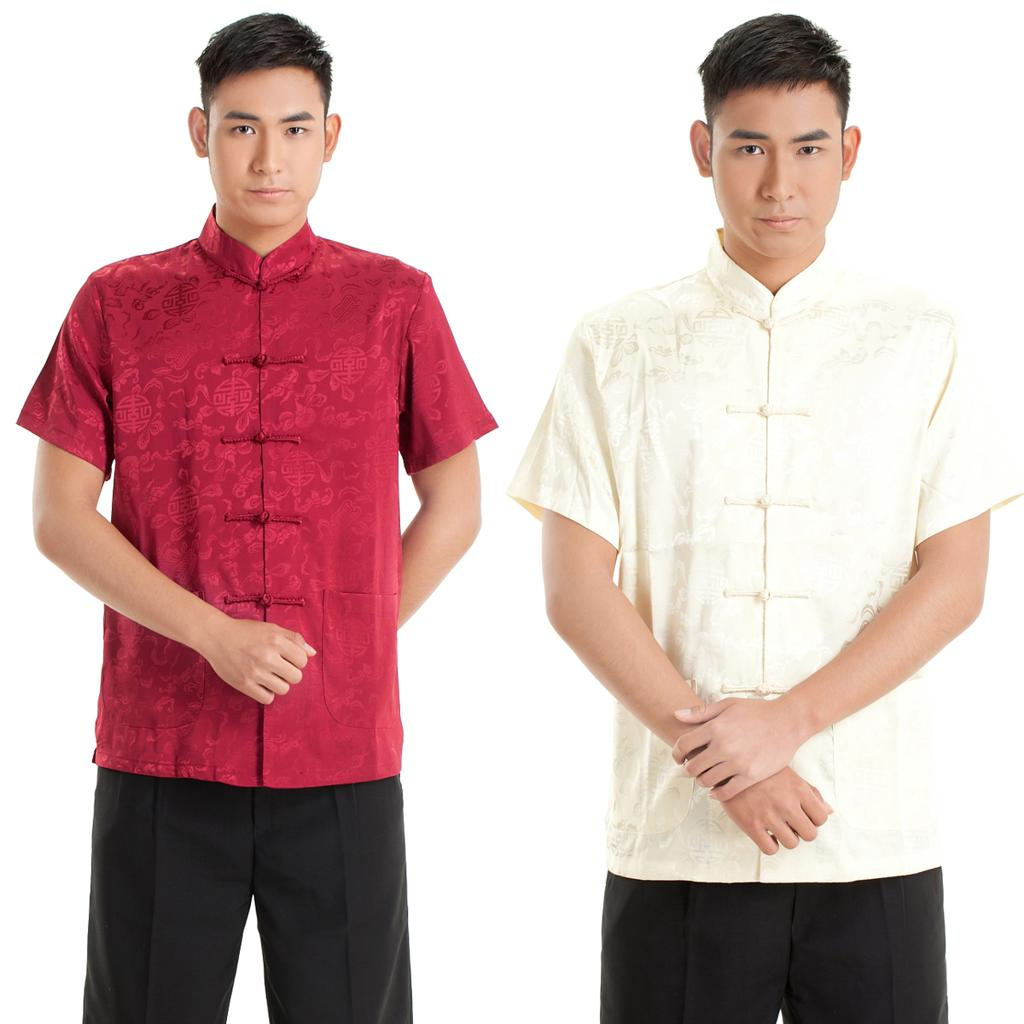face: (710, 66, 846, 258), (208, 52, 328, 222)
